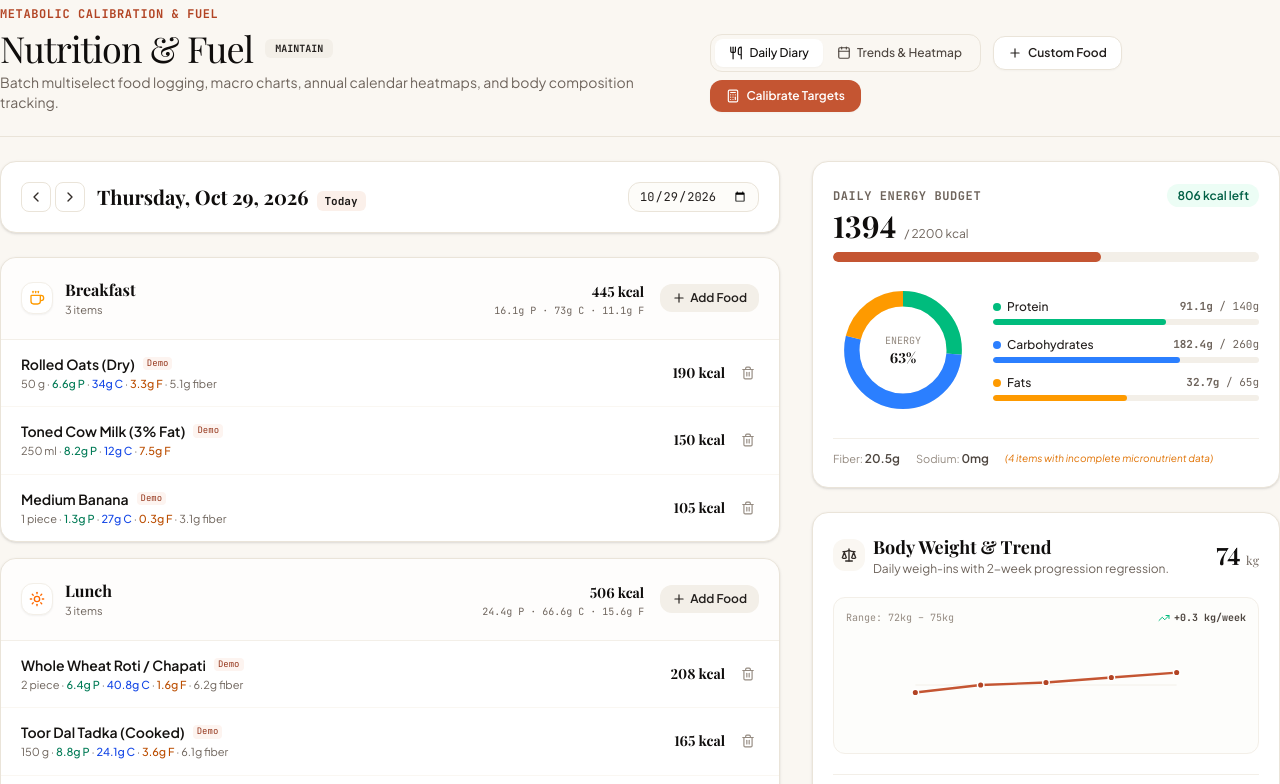
it: Milestone 7: Gym & Nutrition (Full) › Nutrition UI & Daily Food Diary › deletes a food entry when trash icon is clicked
Expected: the text "Rolled Oats (Dry)" is shown, [21, 354, 135, 374]
// Click remove button on Rolled Oats
Click the button titled "Remove item" in the row of "190" at (748, 373), box [737, 362, 759, 384]
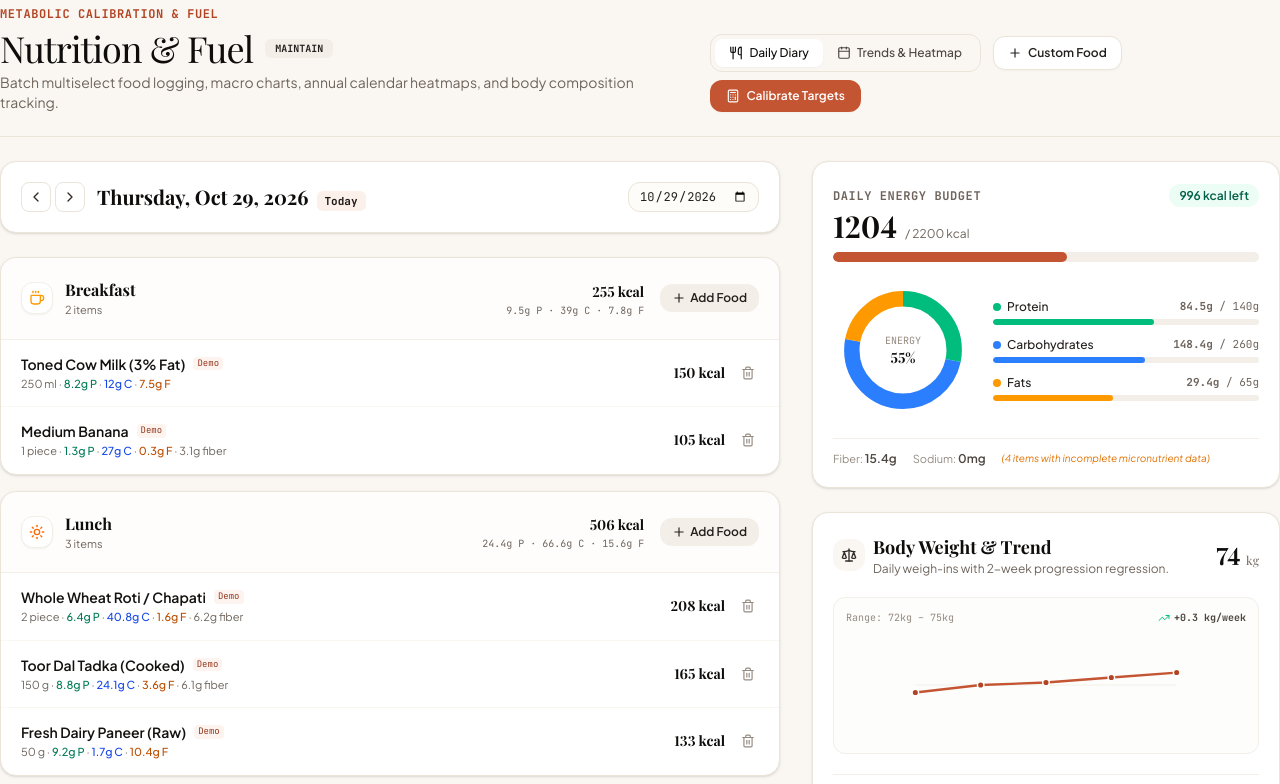
Result: the text "Rolled Oats (Dry)" is gone
